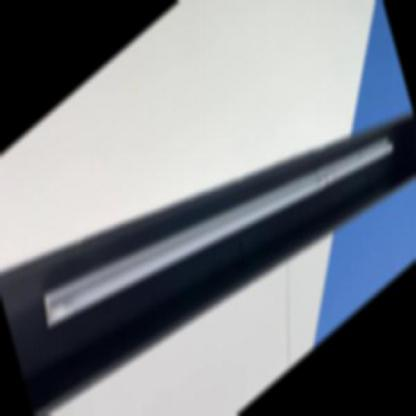light_off: (18, 0, 404, 415)
